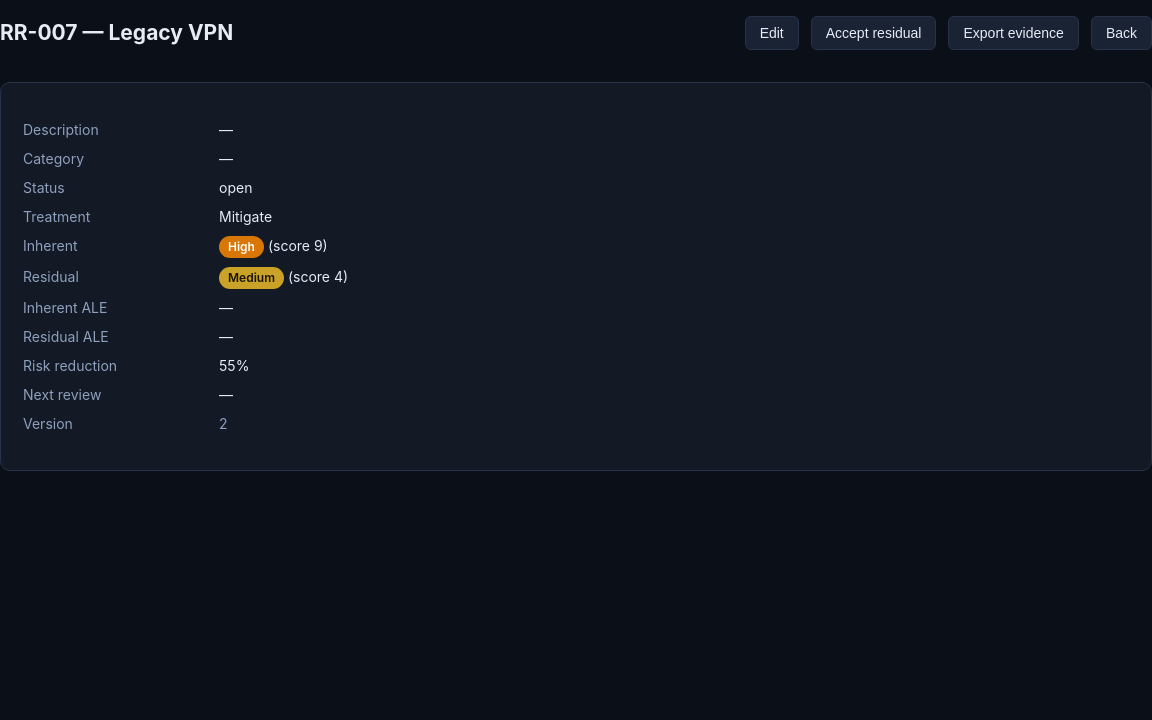
Scenario: RiskDetail › surfaces a 409 as a friendly conflict message and reloads
Click the button "Edit".
click(772, 33)  # box [745,16,799,50]
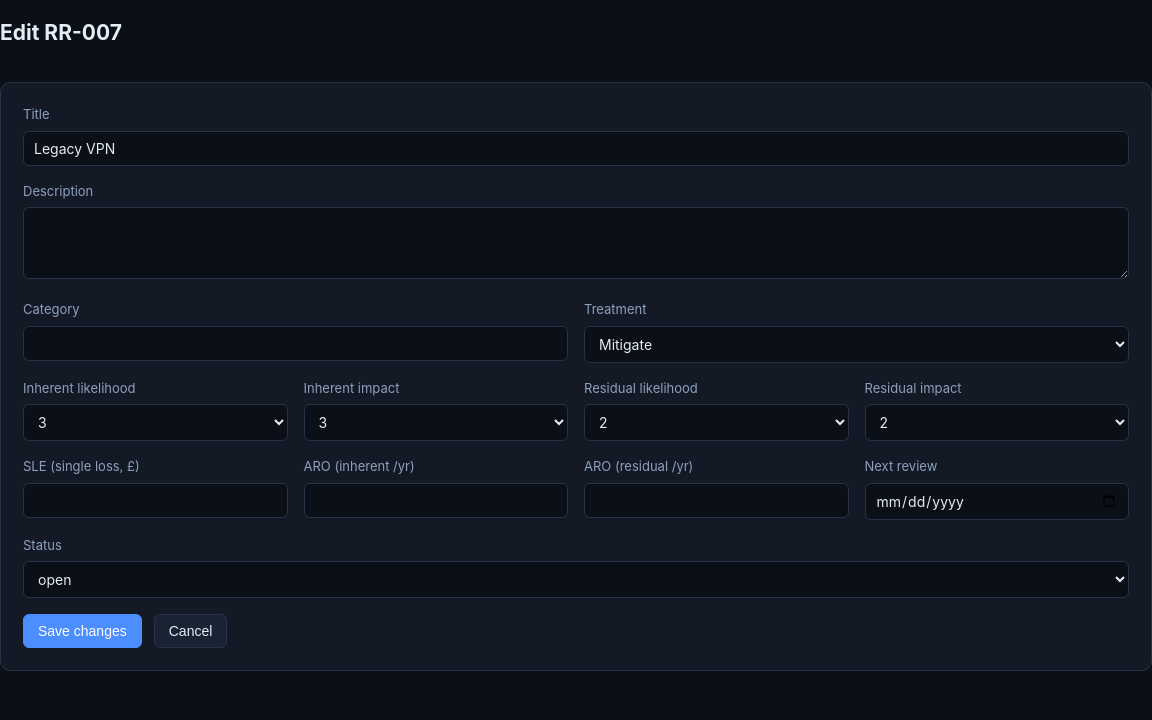
Click the button "Save changes".
click(82, 631)  # box [23,614,142,648]
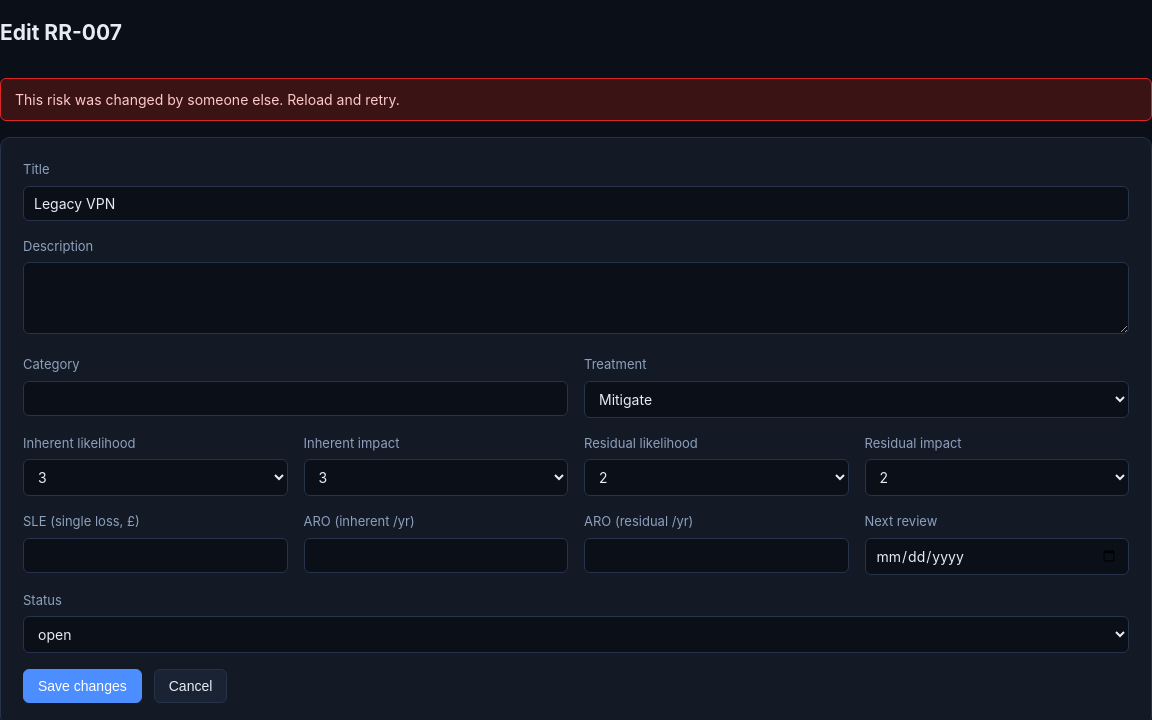
Expected: the text "This risk was changed by someone else. Reload and retry." is shown, [0,78,1151,121]
